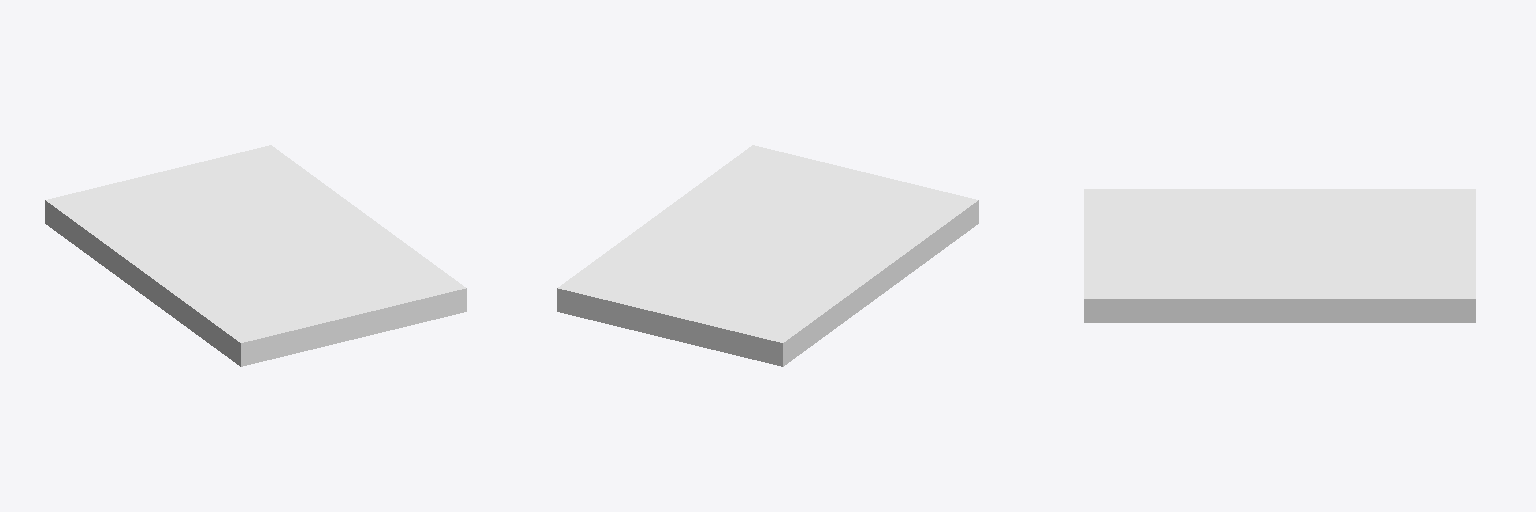
The model's file is Spassport.obj.
3 renders of one model, left to right at view 1: azimuth 30°, elevation 25°; view 2: azimuth 150°, elevation 25°; view 3: azimuth 270°, elevation 25°, orthographic.
Visible parts, largest first — view 1: object 1; view 2: object 1; view 3: object 1.
Part boxes in pixels (x1,y1,x2,y2): object 1: (45, 145, 466, 366); object 1: (557, 145, 978, 366); object 1: (1084, 189, 1475, 322).
Bounding box in the file's own units: 1 × 0.1 × 1.5.